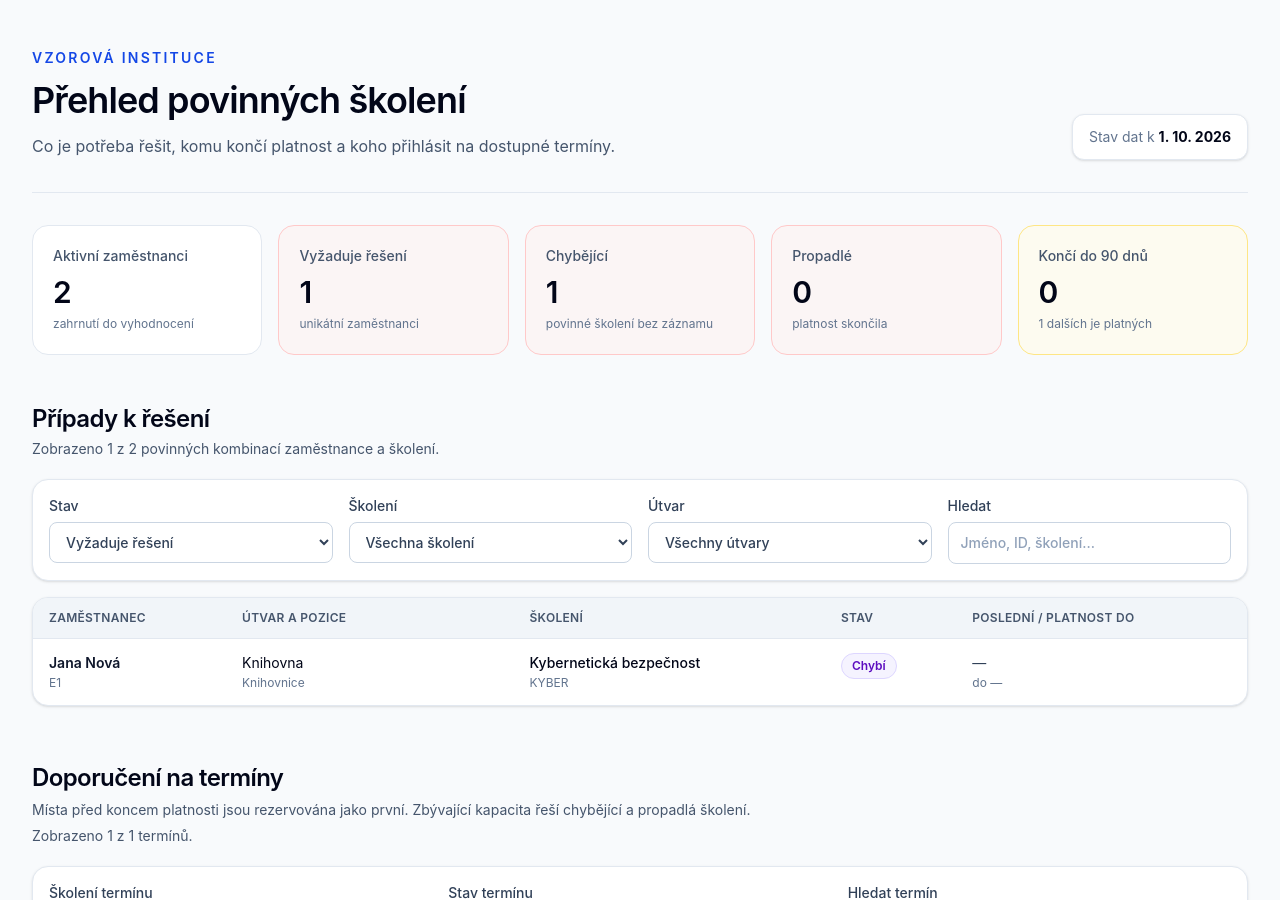
Scenario: Dashboard › filters the compliance table by status
Select "Platné" in the dropdown labelled "Stav" at (191, 542), box [49,522,332,563]
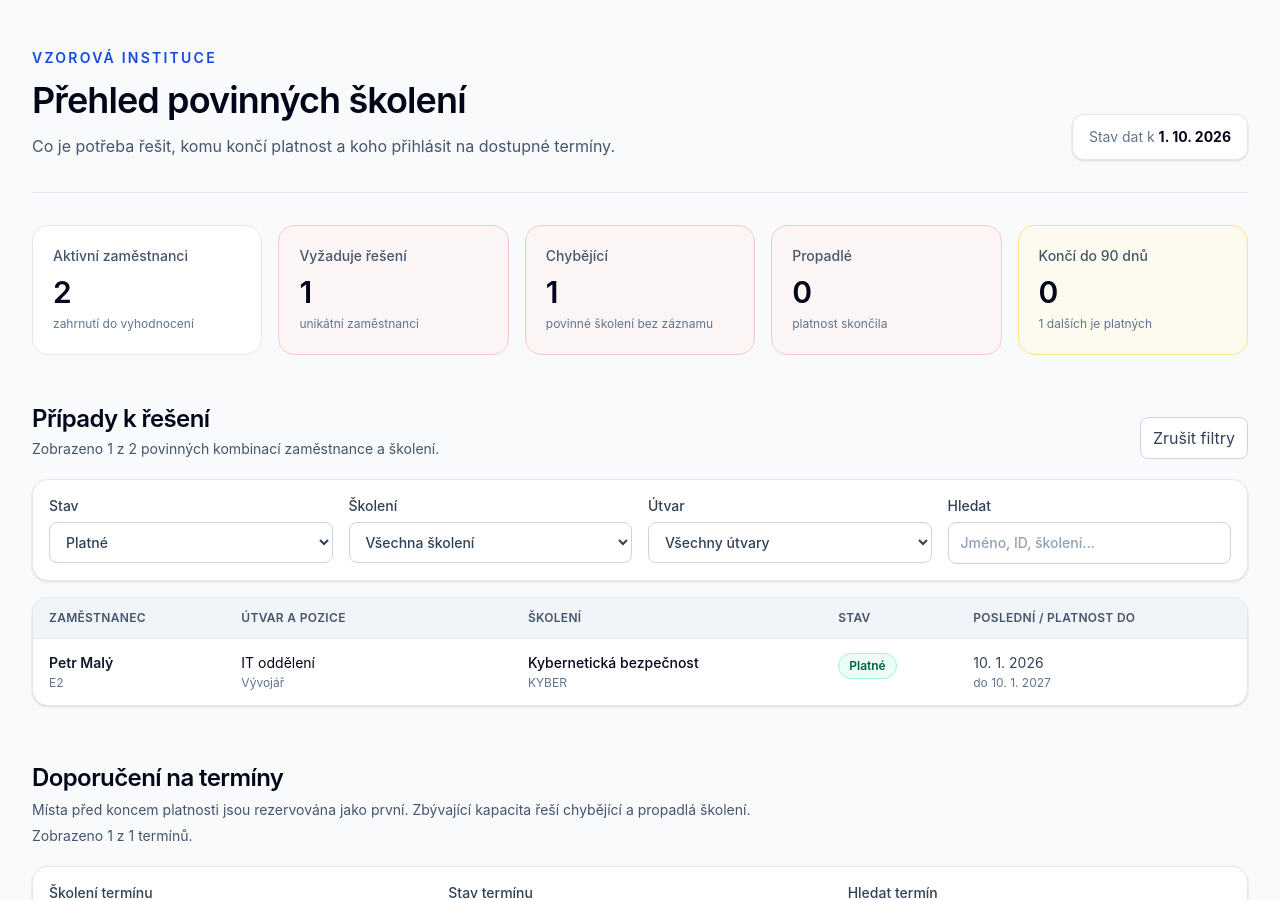
Now the text "Petr Malý" is shown, box [49,654,113,671]
Now the text "Jana Nová" is gone
